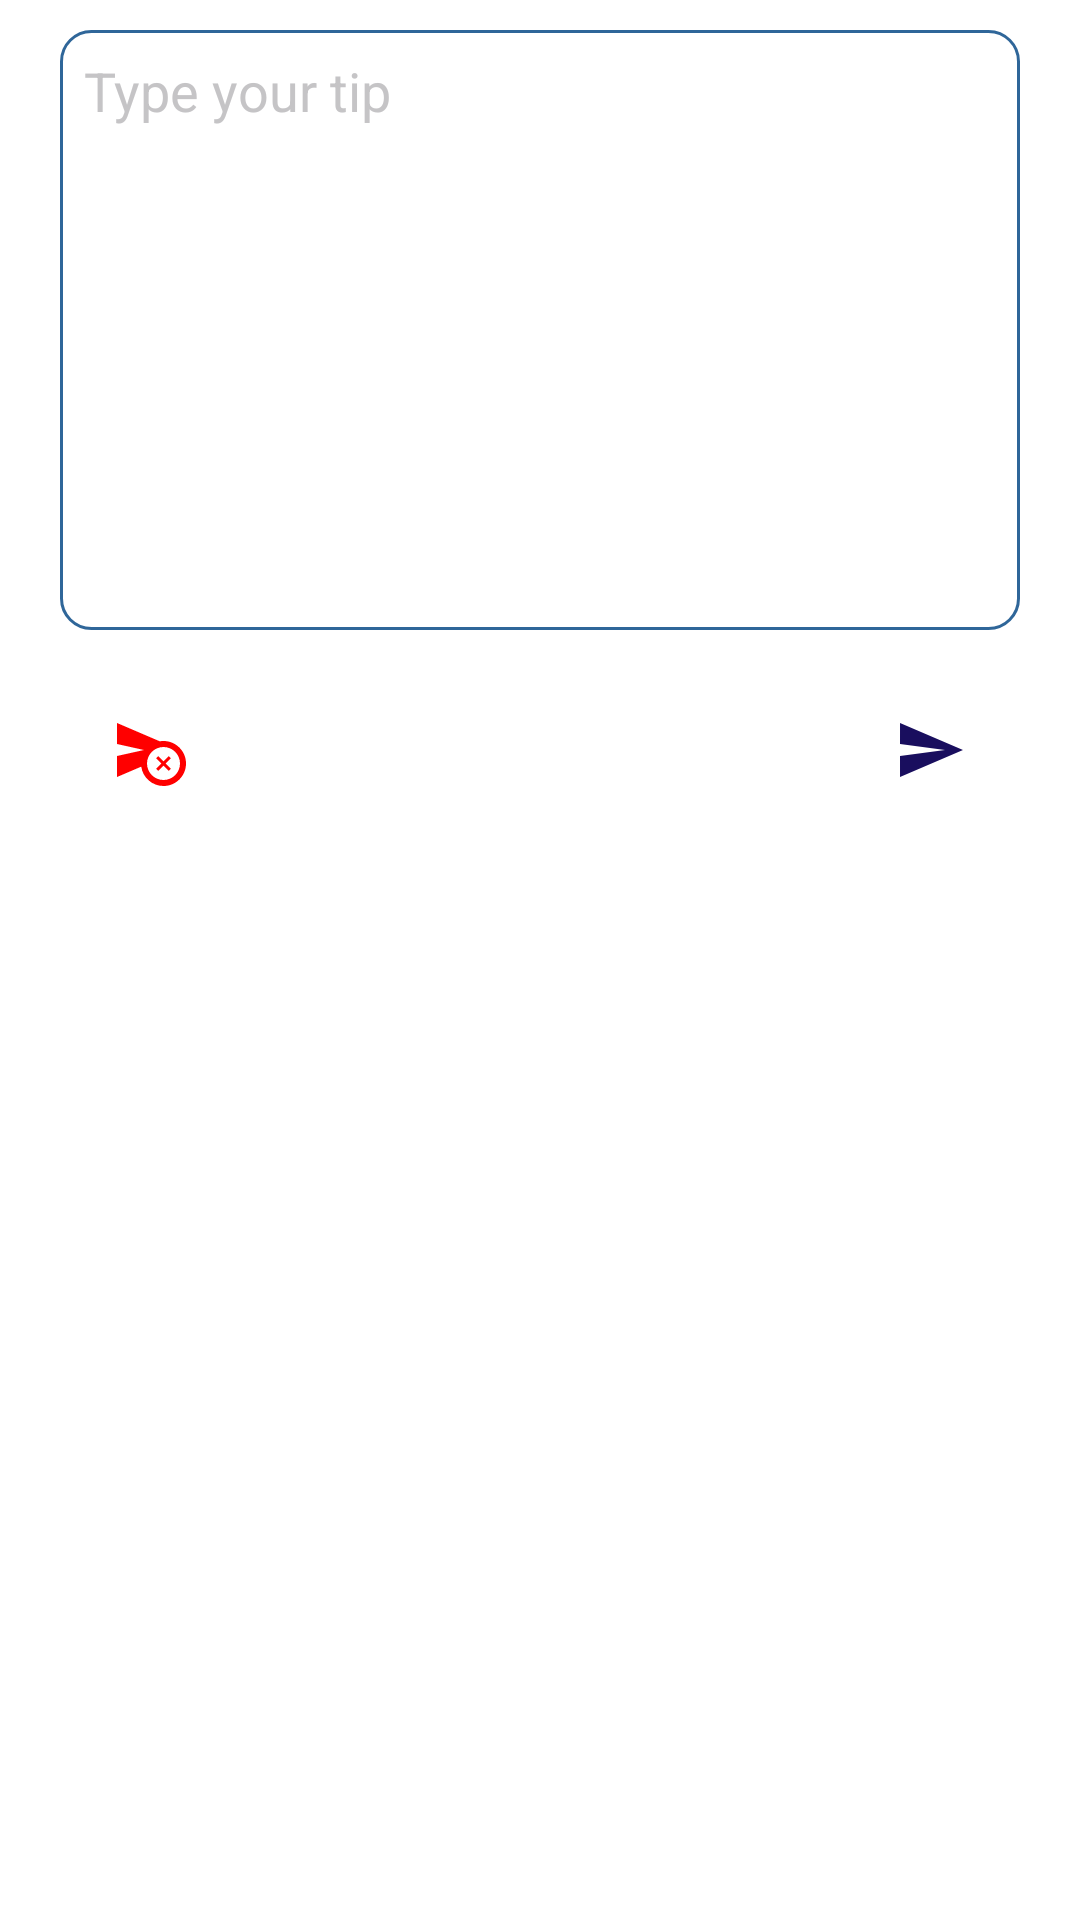

Point at icon controls on the screen. Image size 1080×1920, points as point (x, y).
cancel schedule send: point (151, 754)
send: point (931, 750)
